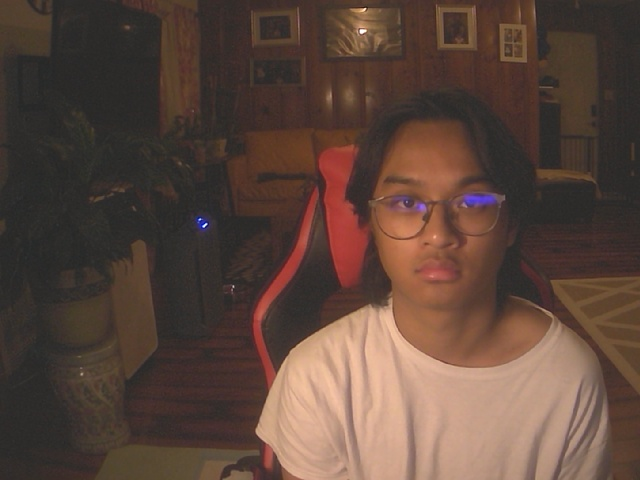neutral: (345, 87, 536, 318)
